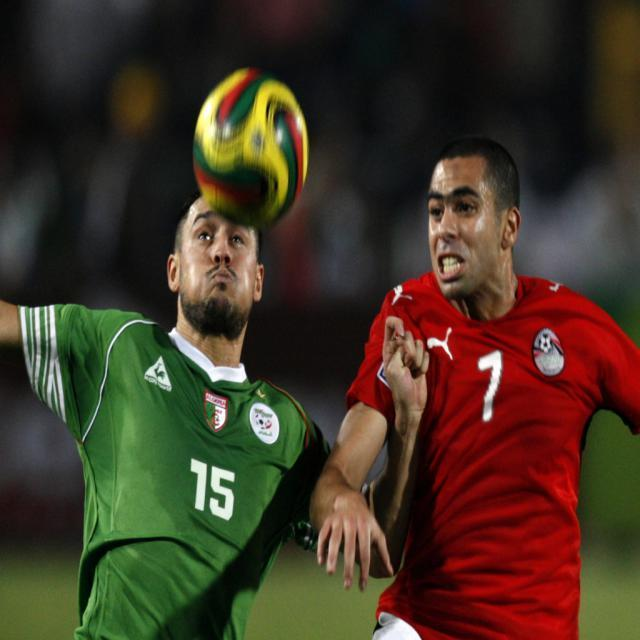football: (173, 78, 329, 209)
